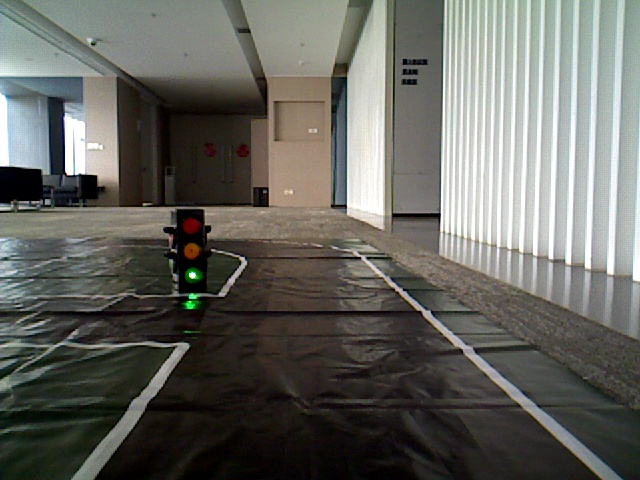green: (176, 212, 204, 283)
